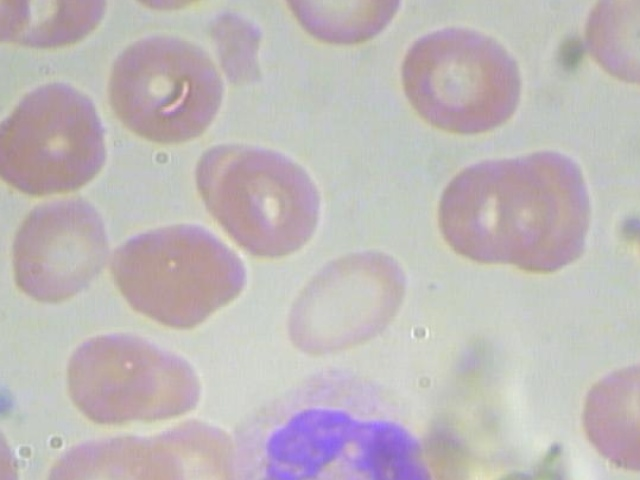RBC: (389, 17, 546, 146), (184, 138, 328, 267), (105, 25, 246, 155), (93, 218, 252, 332), (278, 242, 418, 366), (0, 180, 116, 318), (54, 330, 206, 435), (0, 72, 118, 207), (496, 135, 604, 278), (431, 157, 555, 269), (264, 0, 415, 51)
WBC: (197, 363, 473, 480)
